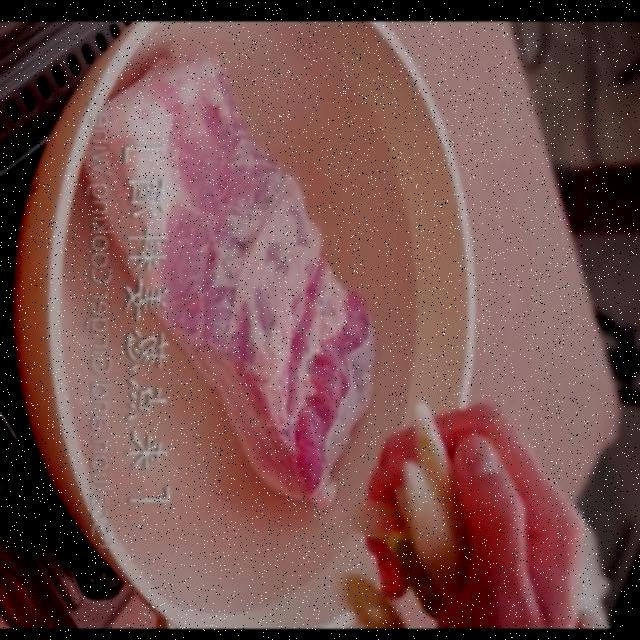potato: (168, 132, 382, 488)
